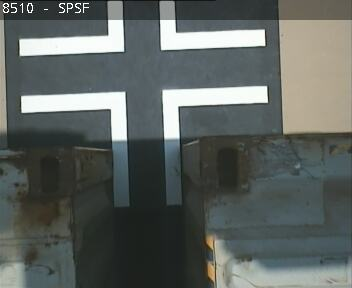groundmarker_1: (19, 83, 266, 204)
